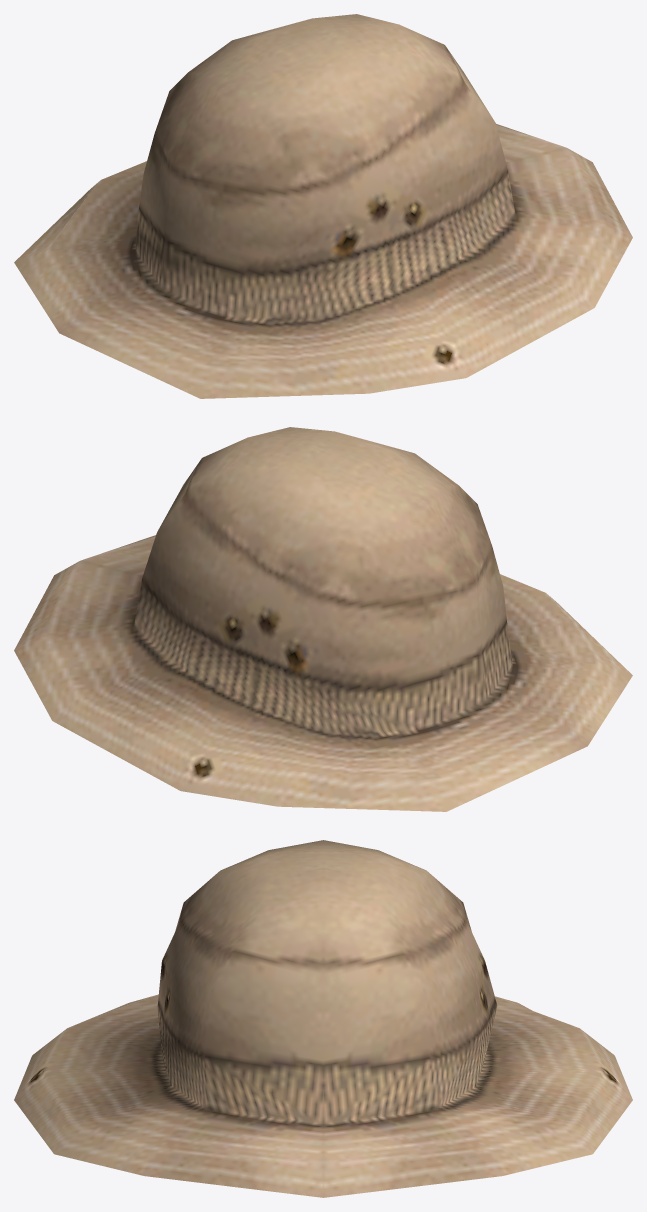
File: hat_0400011.FBX
The picture shows the model from 3 angles, top to bottom: view 1: azimuth 30°, elevation 25°; view 2: azimuth 150°, elevation 25°; view 3: azimuth 270°, elevation 25°; orthographic projection. The views are drawn at different scales.
Visible parts, largest first — view 1: hat_0400011; view 2: hat_0400011; view 3: hat_0400011.
Part boxes in pixels (box(x1,y1,x2,y2)): hat_0400011: box(14, 14, 632, 398); hat_0400011: box(14, 427, 632, 811); hat_0400011: box(14, 840, 632, 1197).
Bounding box in the file's own units: 45.98 × 20.03 × 44.27.
